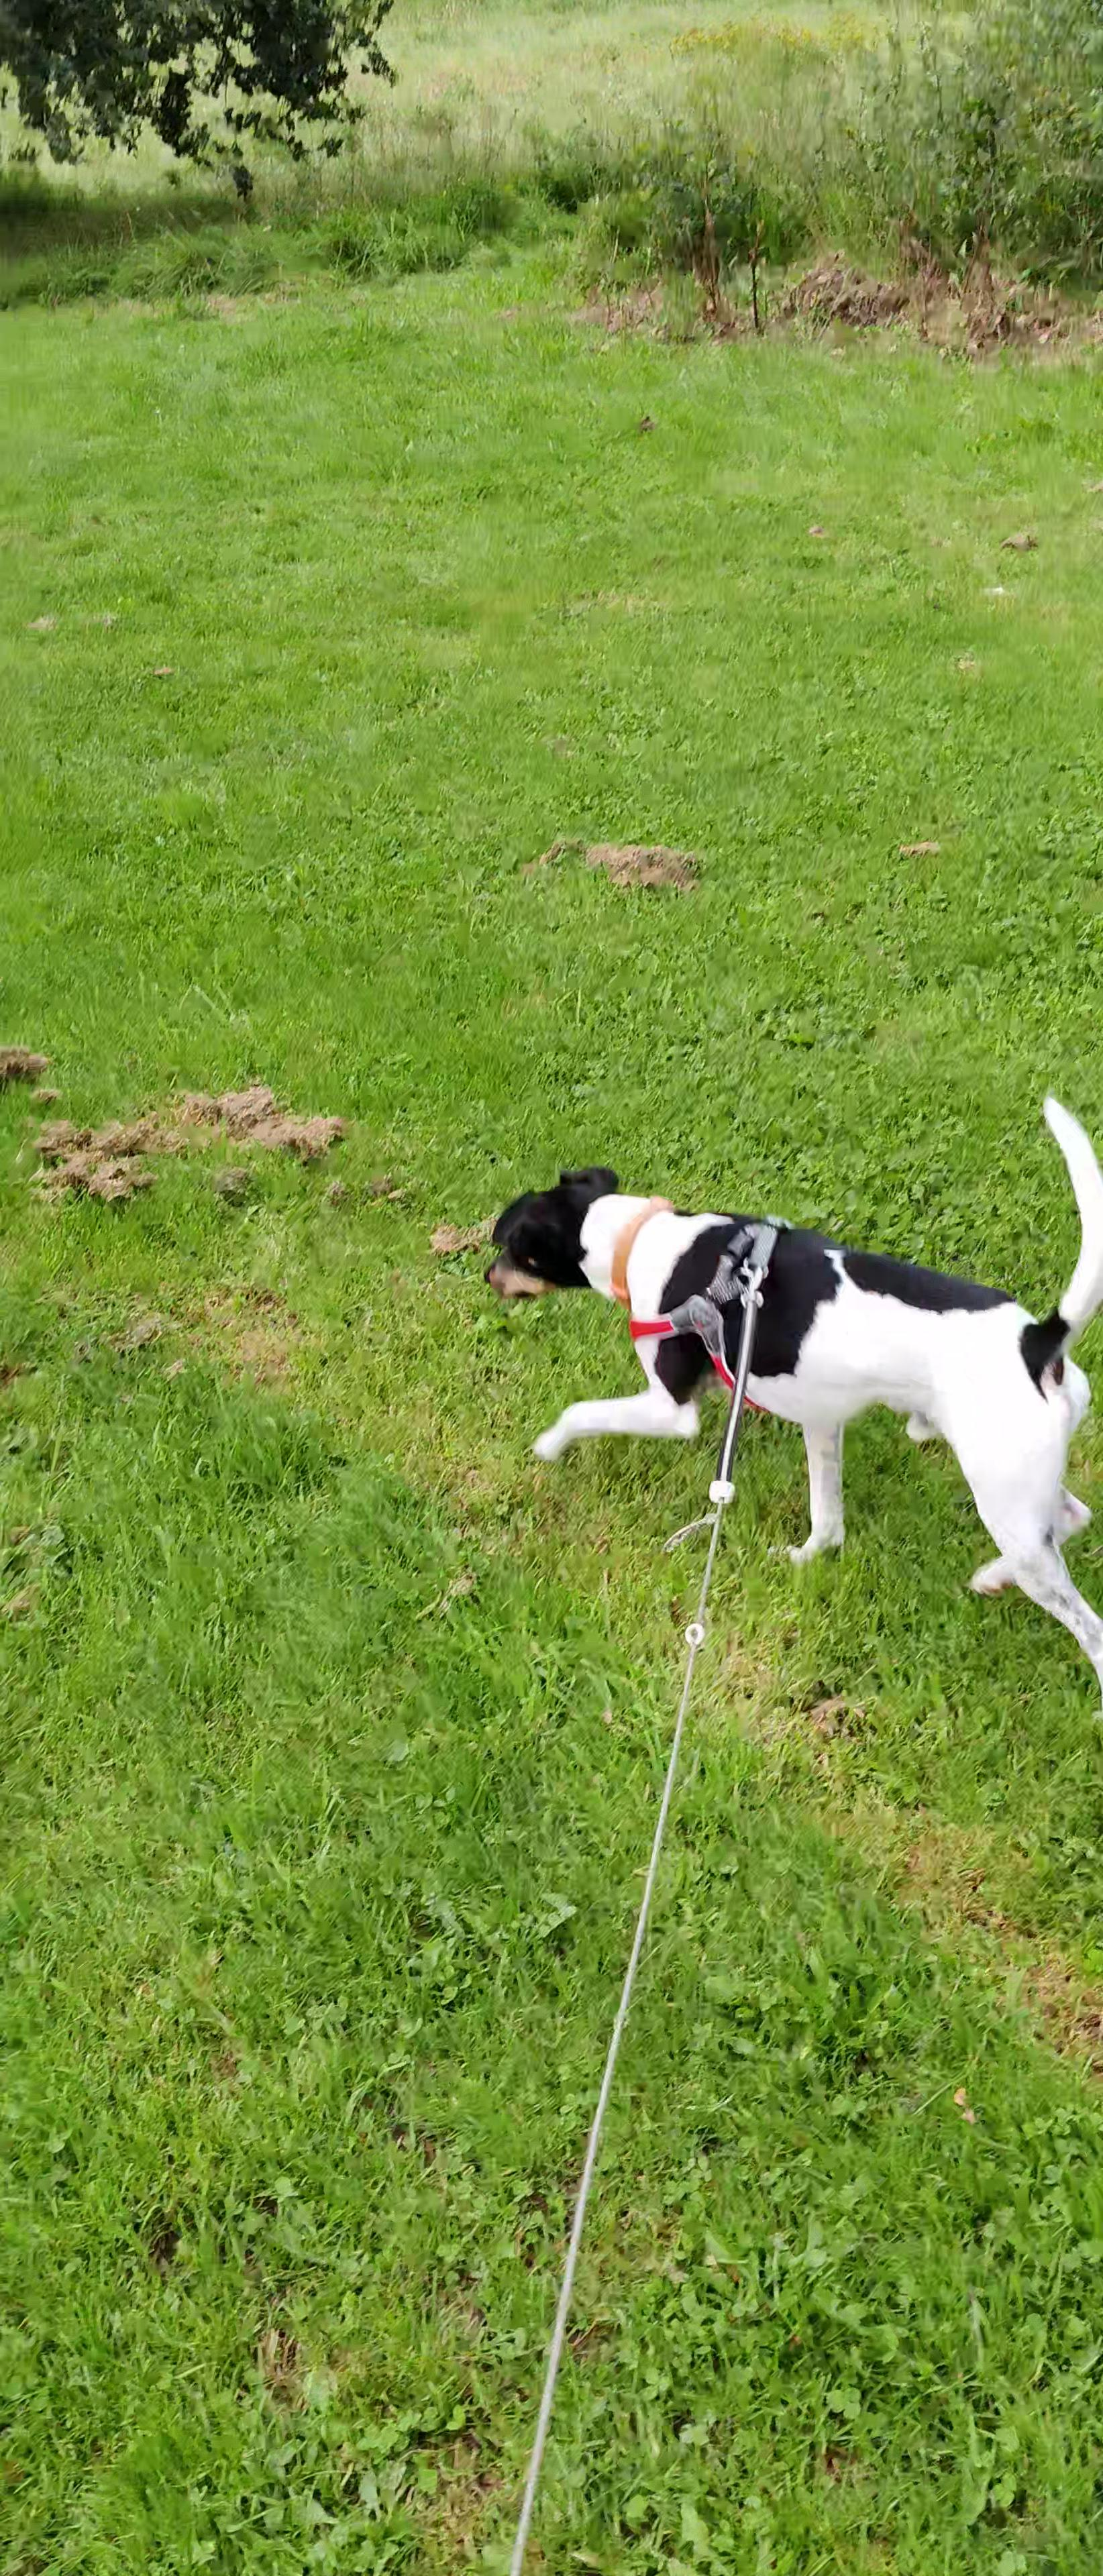Dog: (464, 1050, 1103, 1741)
